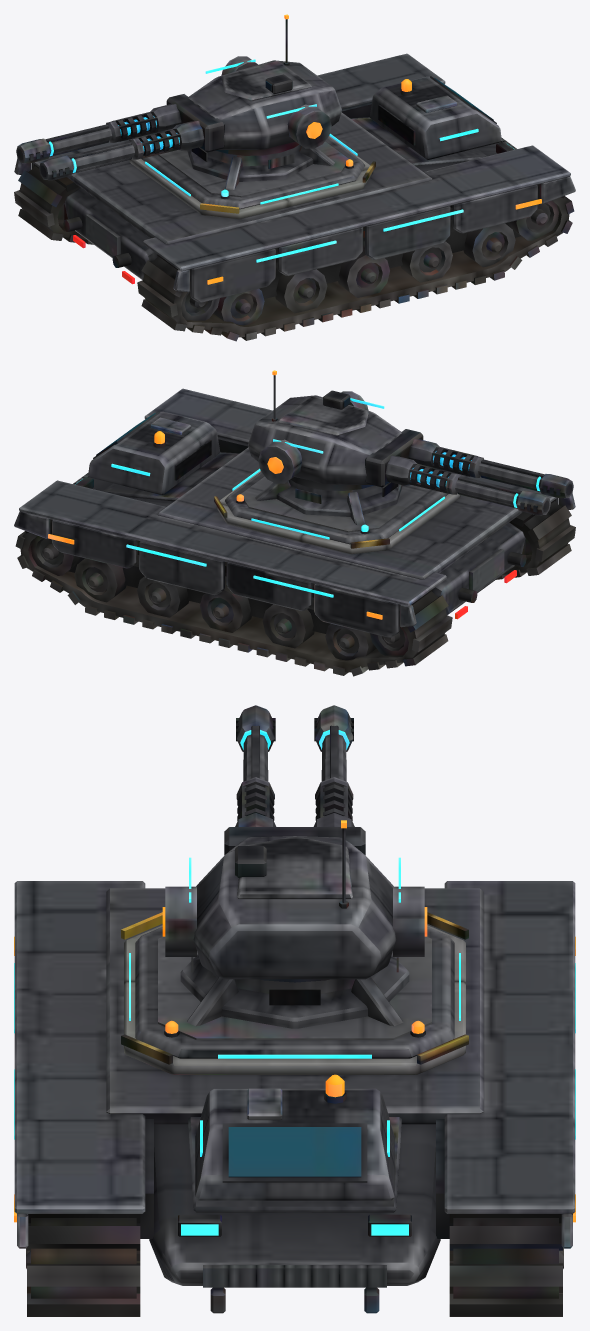
File: bastion_packed.glb
3 views of the same model, one above another, from view 1: azimuth 30°, elevation 25°; view 2: azimuth 150°, elevation 25°; view 3: azimuth 270°, elevation 25° (orthographic). The views are drawn at different scales.
Parts seen in each view (by area): view 1: Hull; view 2: Hull; view 3: Hull.
Part boxes in pixels (x1=…): Hull: x1=14, y1=14, x2=575, y2=341; Hull: x1=14, y1=370, x2=575, y2=676; Hull: x1=14, y1=705, x2=575, y2=1316.
Size of the model in its own units: 7.47 by 3.39 by 4.47.
1 material, 1 textured.
